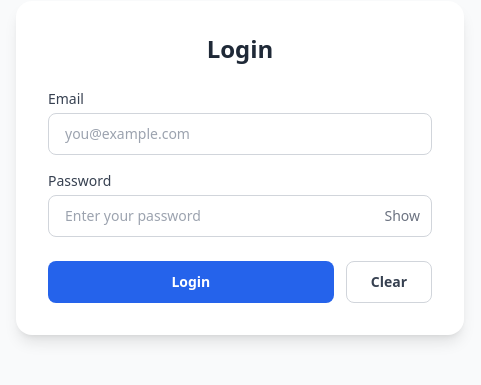
Test case: LoginForm › shows validation errors for empty submission
Click the button "Login" at (191, 282), box [48,261,334,303]
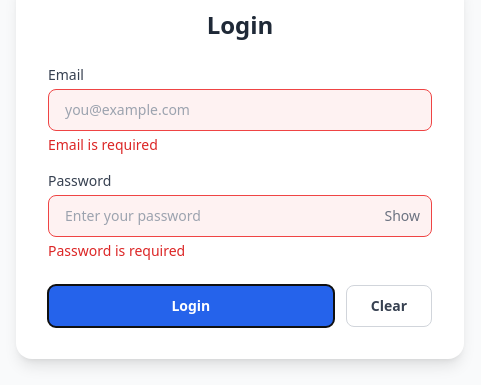
Now the text "Email is required" is shown, box [48,135,158,154]
Now the text "Password is required" is shown, box [48,241,185,260]
